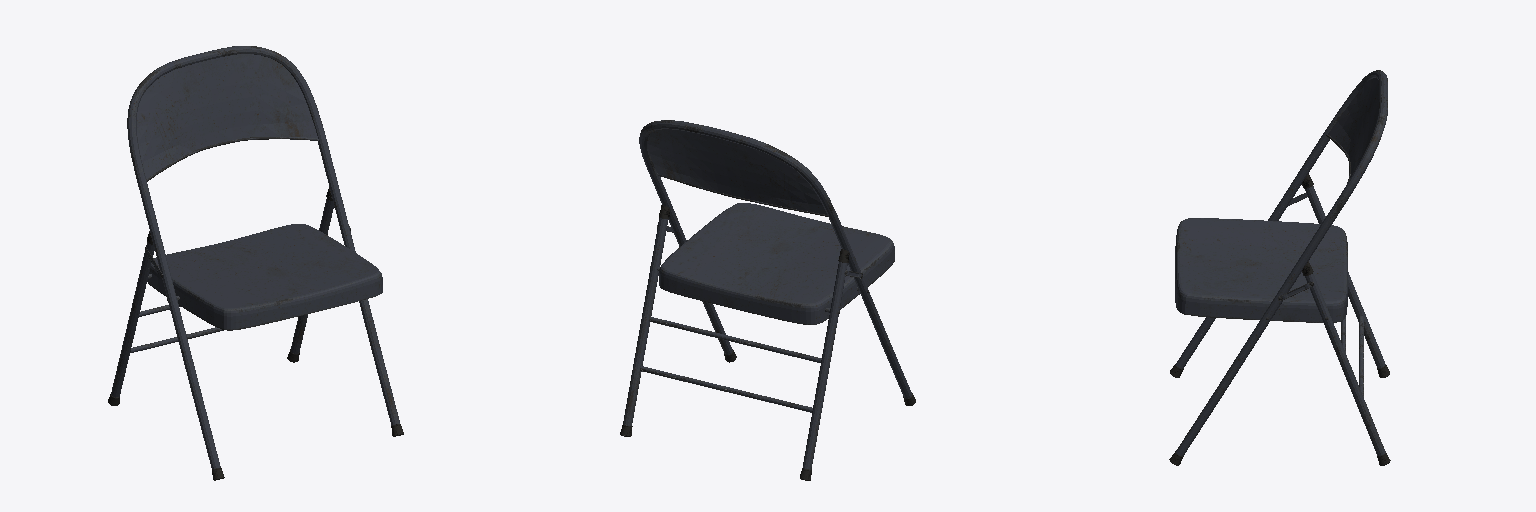
3 views of the same model, side by side, from view 1: azimuth 30°, elevation 25°; view 2: azimuth 150°, elevation 25°; view 3: azimuth 270°, elevation 25° (orthographic).
Parts seen in each view (by area): view 1: foldingchair_open; view 2: foldingchair_open; view 3: foldingchair_open.
Part boxes in pixels (bbox=[...]): foldingchair_open: bbox=[108, 46, 403, 480]; foldingchair_open: bbox=[620, 120, 915, 480]; foldingchair_open: bbox=[1169, 70, 1390, 465].
Bounding box in the file's own units: 21.21 × 35.24 × 21.39.
2 materials, 2 textured.